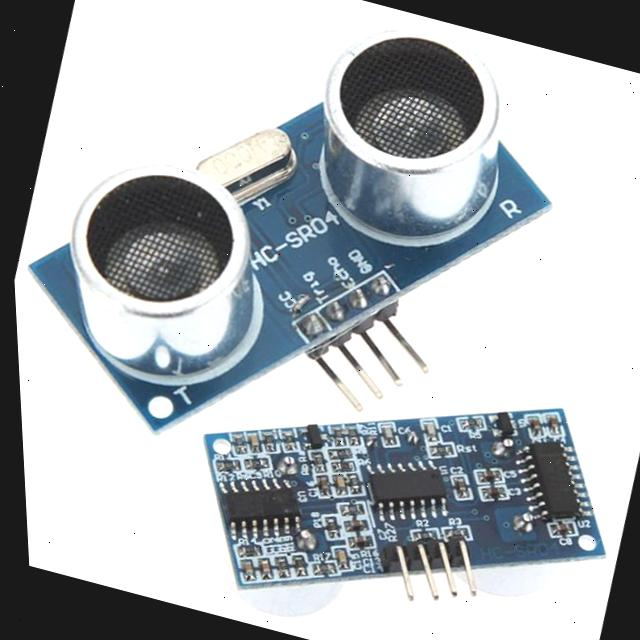Ultrasonic Sensor: (12, 7, 613, 460)
